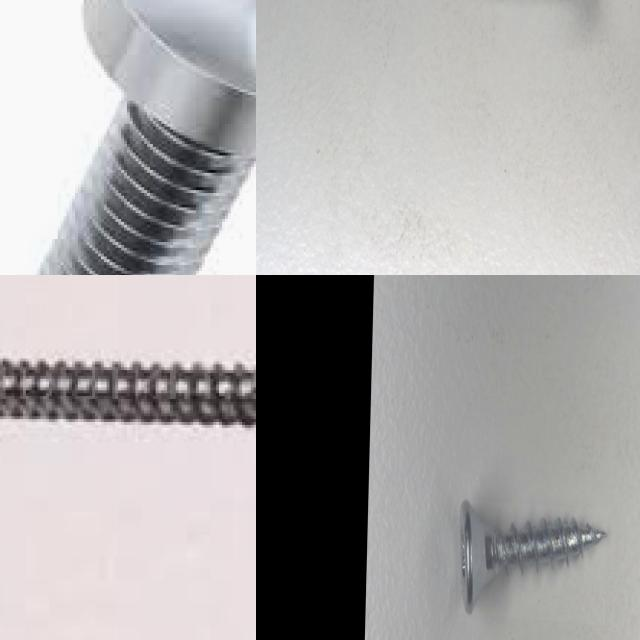Screw: (34, 0, 256, 275), (0, 360, 256, 427), (459, 500, 606, 614)
